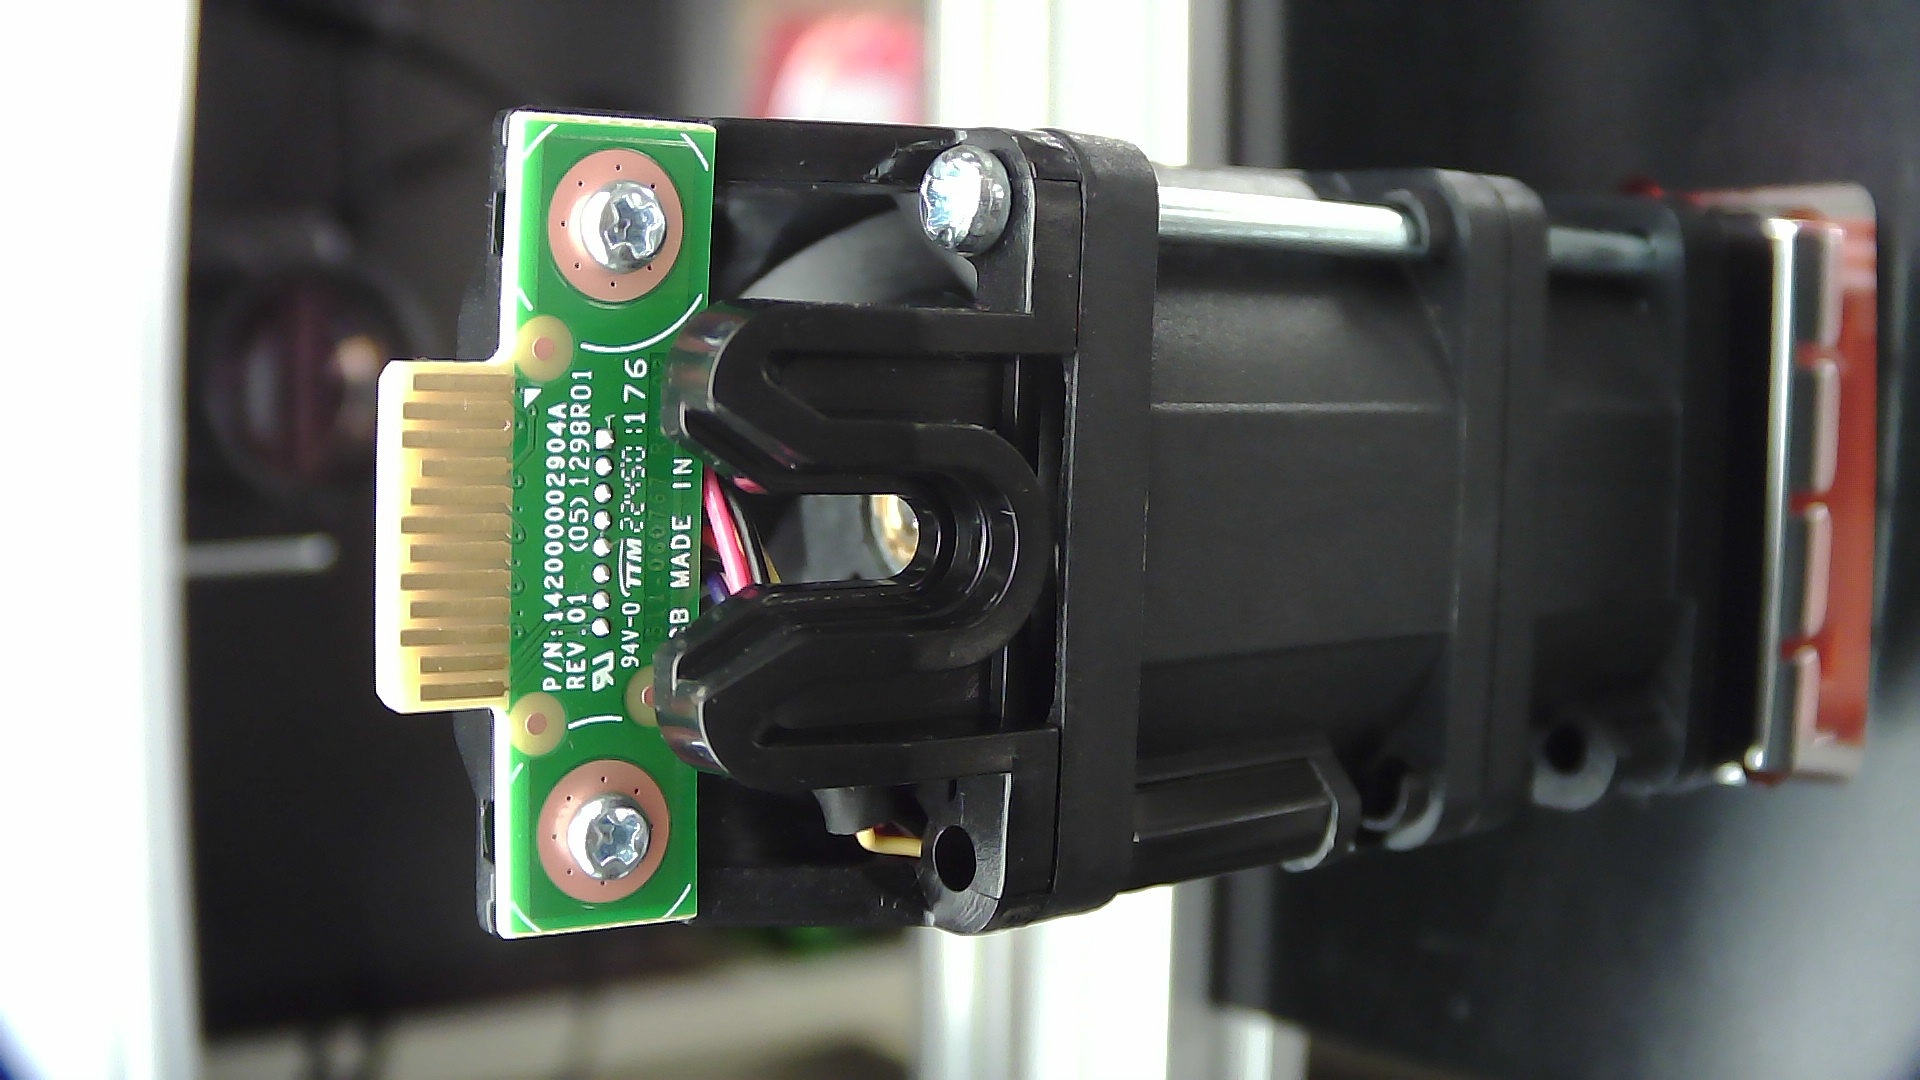7_0: (305, 63, 1920, 993)
